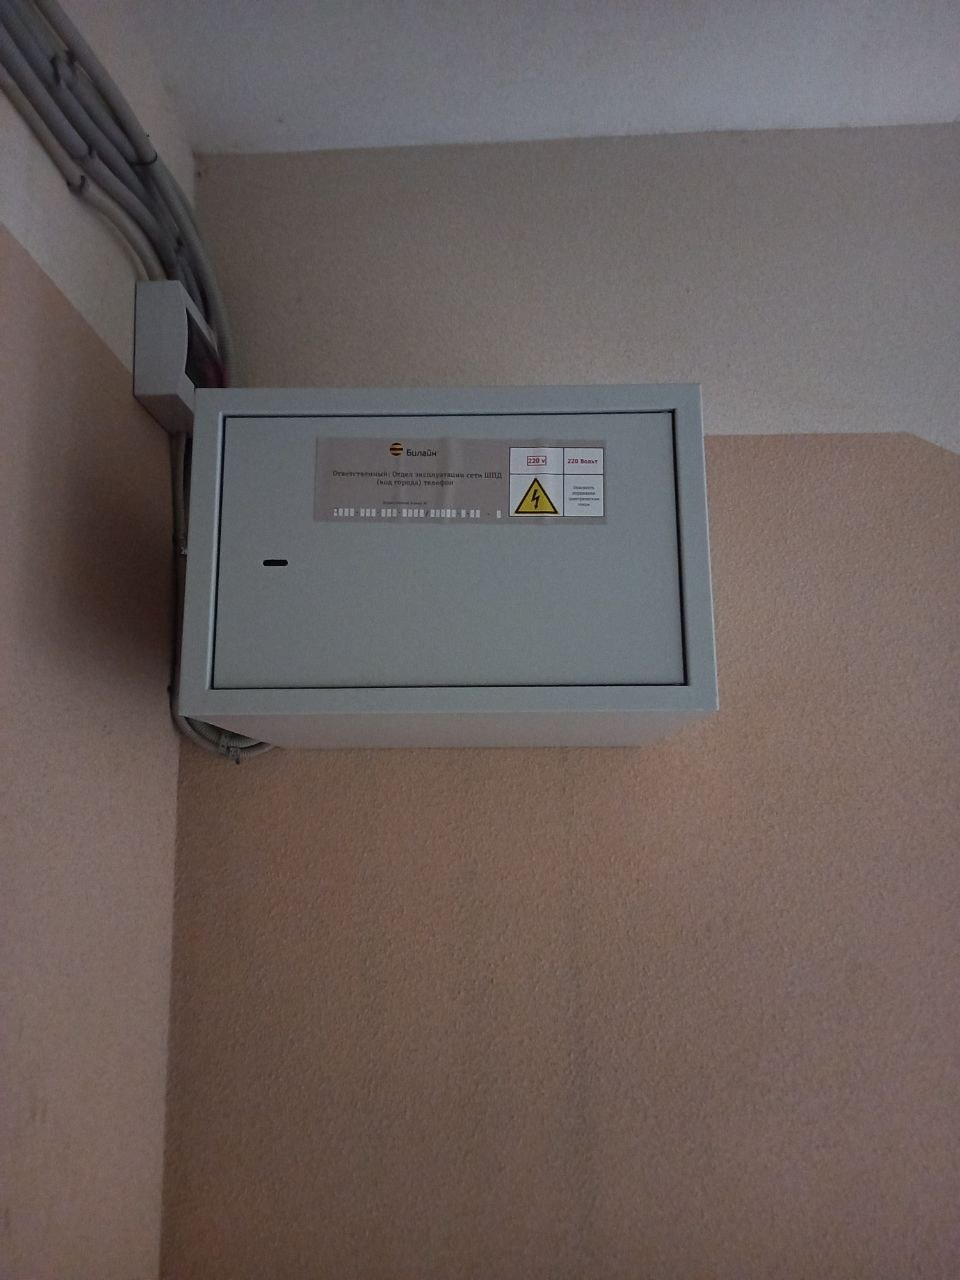shta-7m: (162, 373, 727, 757)
